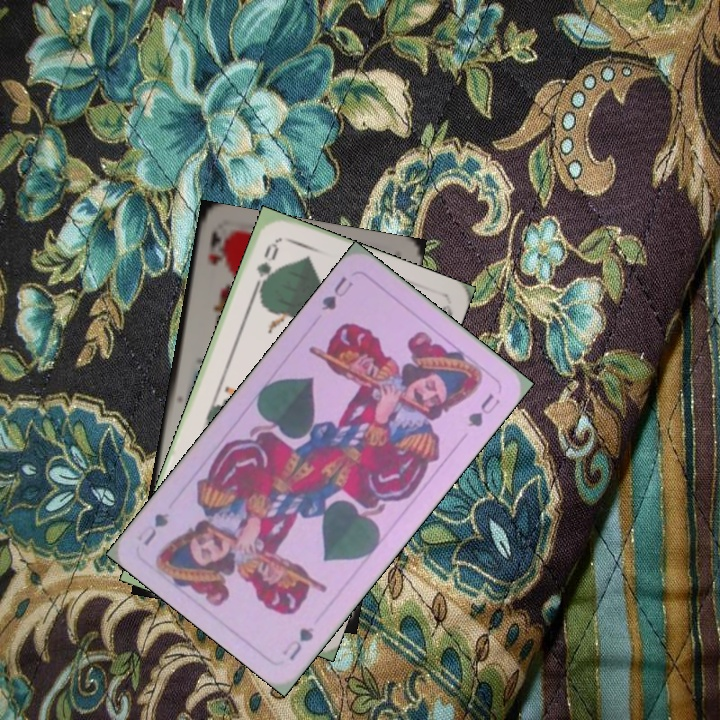GO: (250, 237, 282, 296)
GU: (317, 272, 356, 313), (278, 623, 317, 663)
HK: (204, 227, 229, 268)
